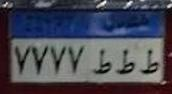7: (67, 45, 87, 74), (14, 44, 31, 76), (31, 44, 49, 74), (50, 44, 66, 73)
Taa: (93, 48, 114, 77), (139, 50, 162, 76), (117, 49, 137, 76)
